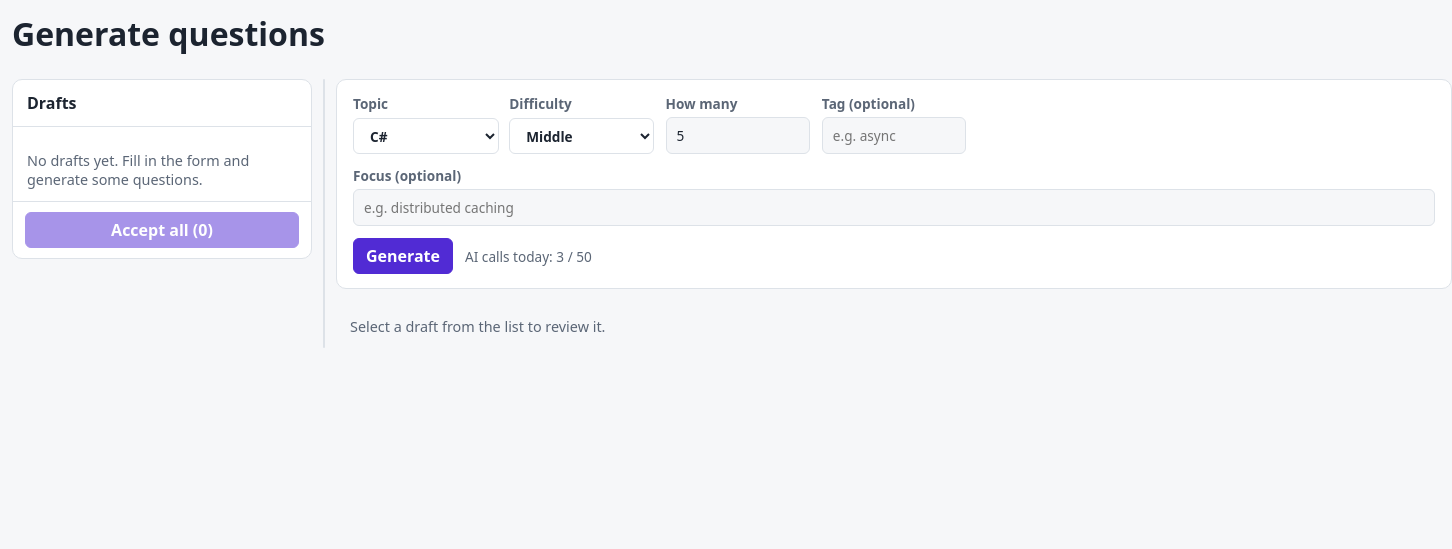
Test case: GenerateQuestionsPage › generating › shows a failed run as an error with Retry, and no Drafts
Step 1. Click the button "Generate" → (403, 256), box [353,238,453,274]
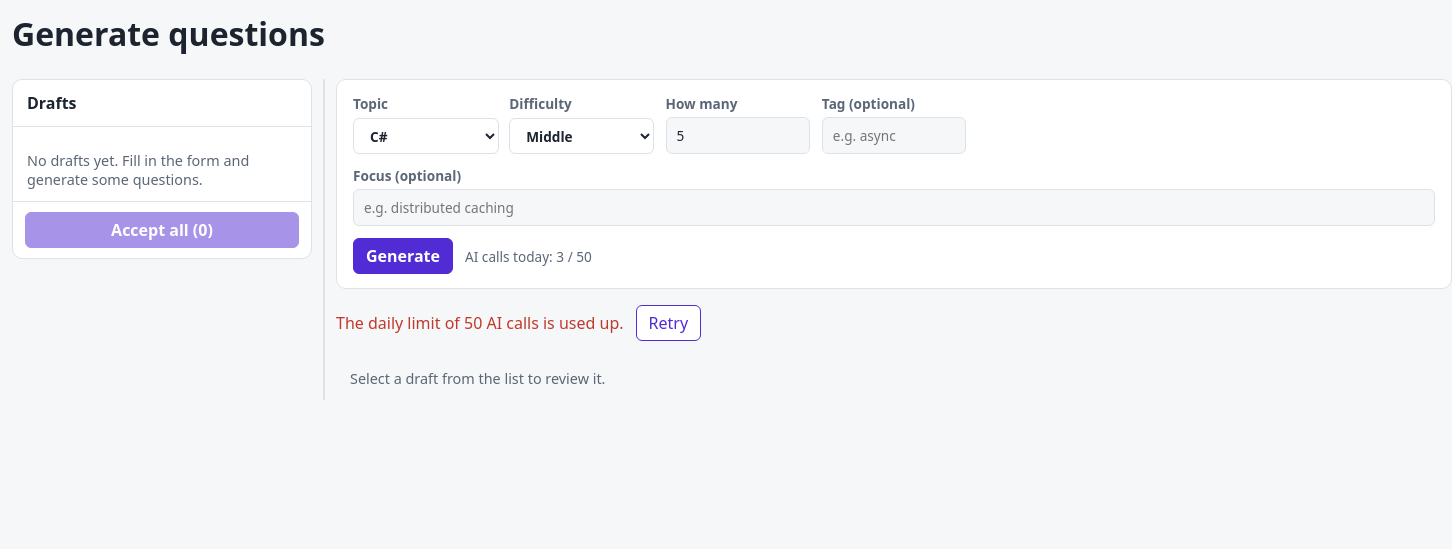
expect the message shows "The daily limit of 50 AI calls is used up.": met, box [336,312,624,334]
Step 2. Click the button "Retry" → (668, 323), box [636,305,701,341]
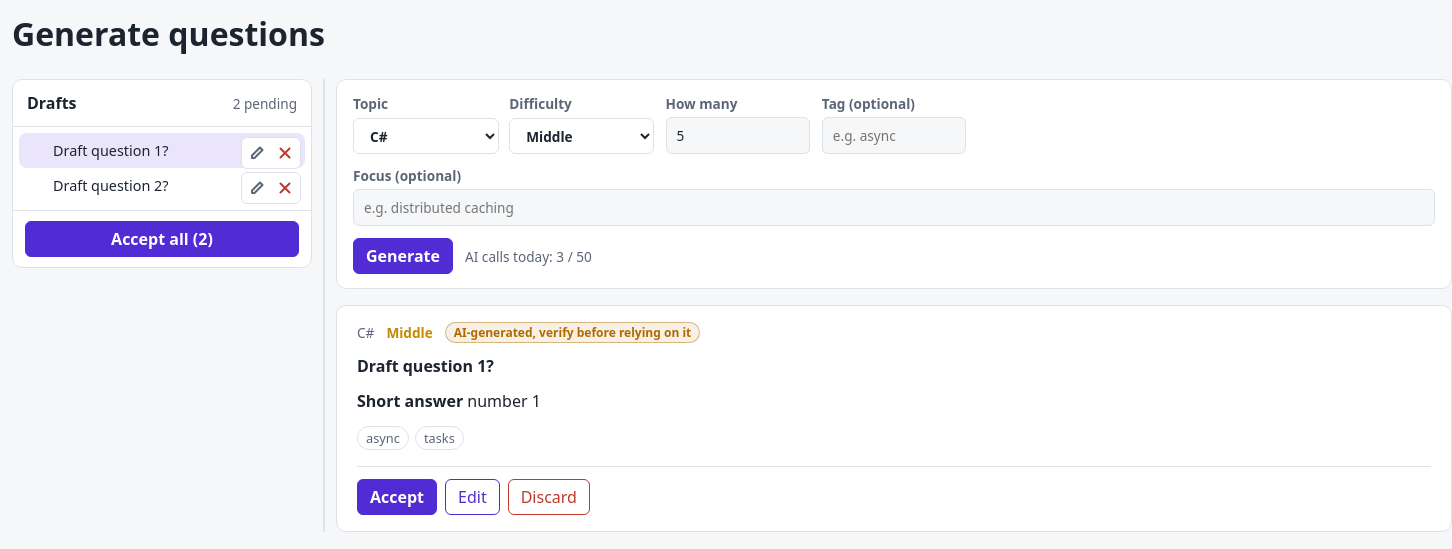
expect the button named "Edit draft: Draft question 2?" is shown: met, box [244,175,270,201]
